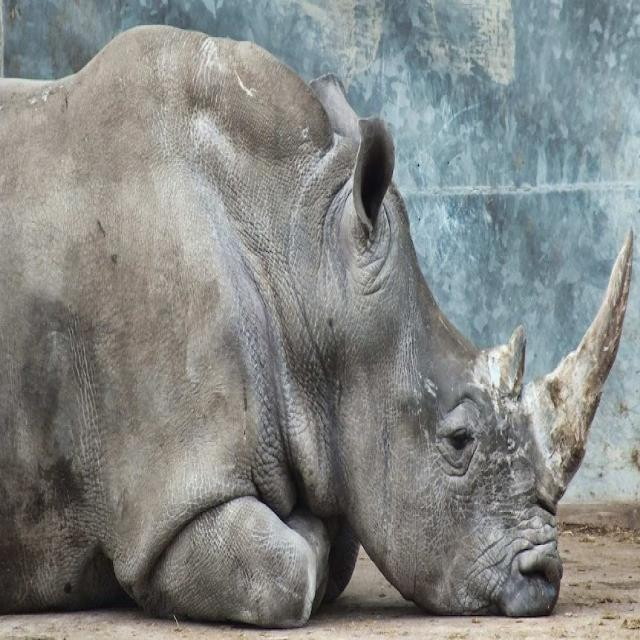rhinoceros: (0, 25, 631, 627)
